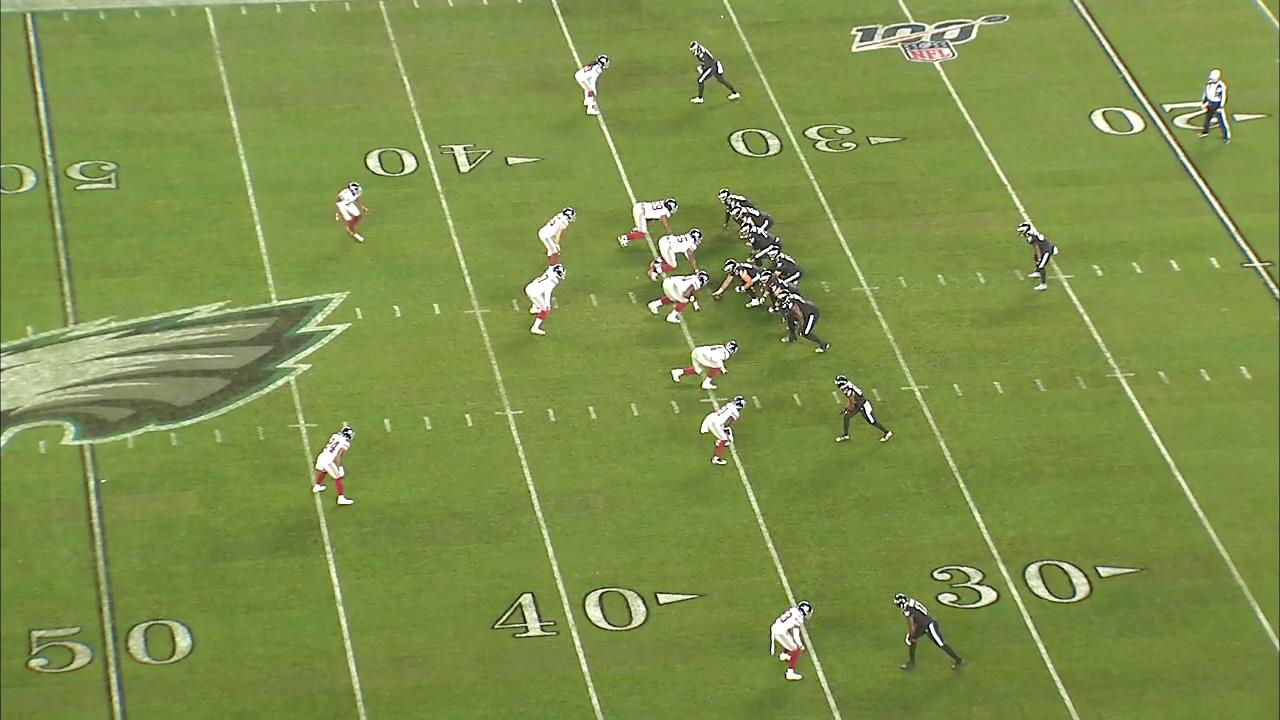defense: (766, 600, 814, 682), (311, 424, 357, 507), (671, 338, 740, 389), (700, 395, 748, 468), (523, 261, 569, 337), (617, 197, 680, 252), (644, 227, 704, 283), (647, 270, 709, 323), (535, 205, 577, 277), (570, 54, 612, 120), (331, 180, 371, 248)
oline: (774, 290, 831, 354), (710, 256, 765, 310), (759, 270, 804, 331), (738, 221, 784, 269), (728, 205, 775, 248)
qb: (762, 246, 804, 285)
ref: (1197, 68, 1233, 146)
skill: (891, 590, 970, 675), (831, 372, 895, 446), (687, 39, 744, 112), (1015, 220, 1062, 294), (716, 187, 758, 231)
